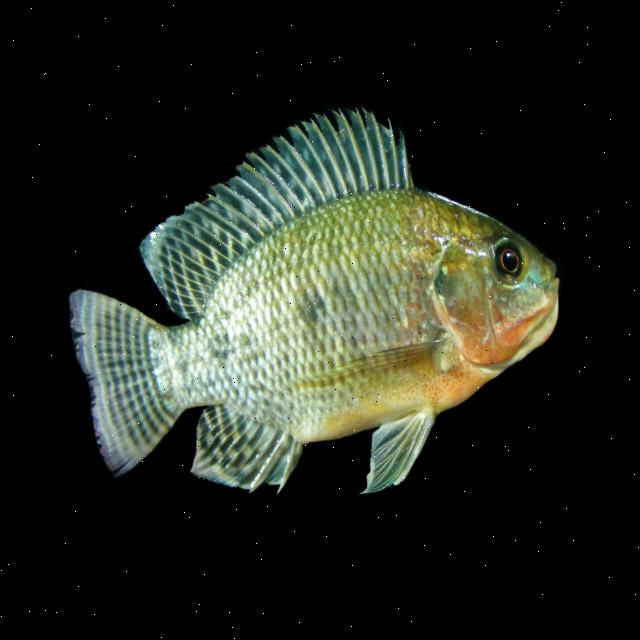ikan: (34, 66, 596, 548)
